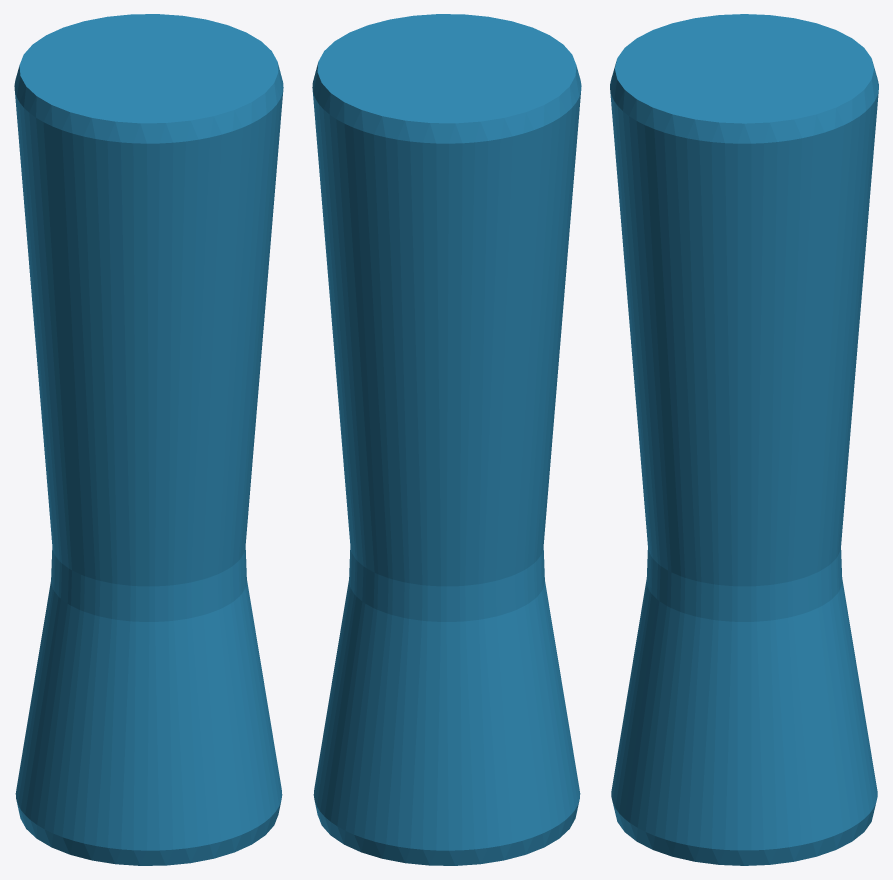
File: token_round_big.fbx
3 views of the same model, side by side, from view 1: azimuth 30°, elevation 25°; view 2: azimuth 150°, elevation 25°; view 3: azimuth 270°, elevation 25° (orthographic).
Visible parts, largest first — view 1: token_round_big_1; view 2: token_round_big_1; view 3: token_round_big_1.
Boxes of the visible parts, <box> form: token_round_big_1: <box>14,14,283,865</box>; token_round_big_1: <box>312,14,581,865</box>; token_round_big_1: <box>610,14,878,865</box>.
Size of the model in its own units: 197 by 600 by 197.
